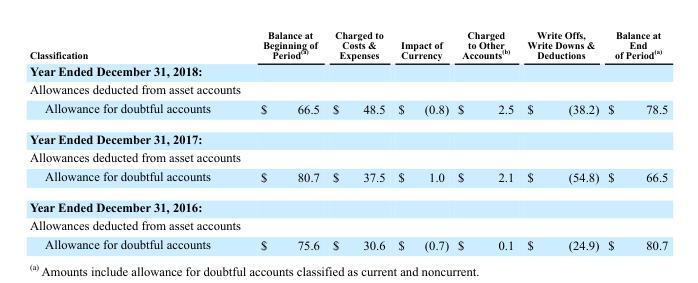table: (28, 28, 667, 251)
table column: (28, 28, 234, 251), (234, 28, 325, 251), (519, 28, 602, 251), (452, 28, 519, 251), (325, 28, 391, 251), (602, 28, 667, 251), (391, 28, 452, 251)
table column header: (28, 28, 667, 61)
table projected row header: (28, 123, 667, 147), (28, 191, 667, 215), (28, 147, 667, 166), (28, 215, 667, 234), (28, 61, 667, 79), (28, 79, 667, 97)
table row: (28, 28, 667, 61), (28, 97, 667, 123), (28, 166, 667, 191), (28, 123, 667, 147), (28, 191, 667, 215), (28, 147, 667, 166), (28, 215, 667, 234), (28, 61, 667, 79), (28, 79, 667, 97), (28, 234, 667, 251)
